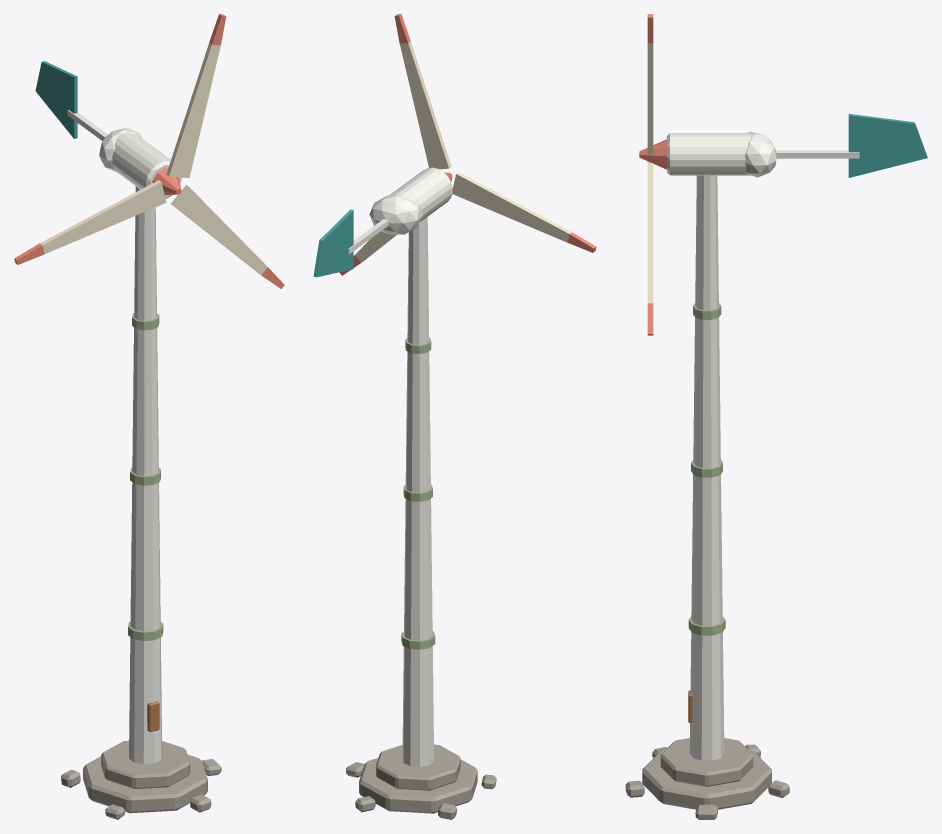
The model's file is small_wind_turbine.glb.
3 renders of one model, left to right at view 1: azimuth 30°, elevation 25°; view 2: azimuth 150°, elevation 25°; view 3: azimuth 270°, elevation 25°, orthographic. The views are drawn at different scales.
Visible parts, largest first — view 1: Small Wind Turbine; view 2: Small Wind Turbine; view 3: Small Wind Turbine.
Part boxes in pixels (bbox=[...]): Small Wind Turbine: bbox=[14, 14, 284, 819]; Small Wind Turbine: bbox=[313, 14, 596, 819]; Small Wind Turbine: bbox=[625, 14, 927, 819].
Bounding box in the file's own units: 2 × 5.57 × 1.92.
Materials: 1 (1 with a texture image).
